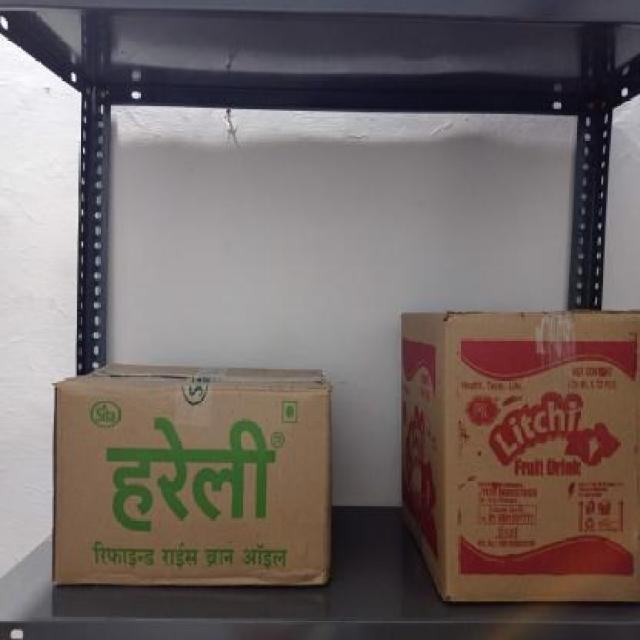box: (443, 316, 640, 598), (55, 386, 332, 586)
